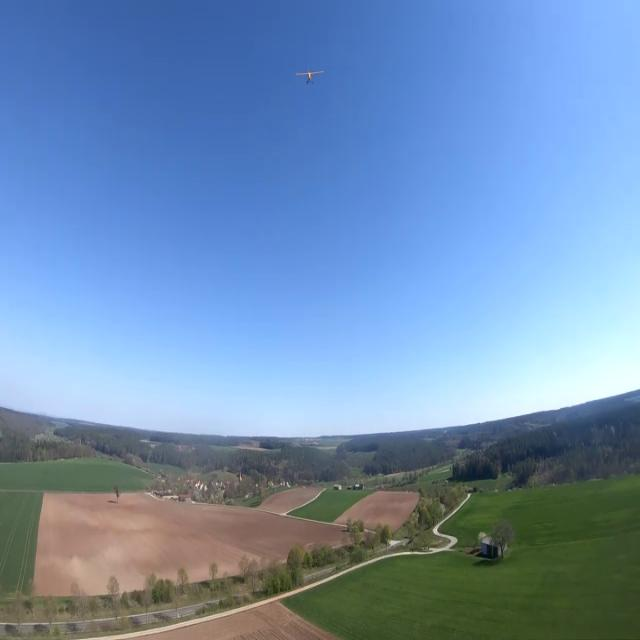iha: (294, 2, 326, 24)
